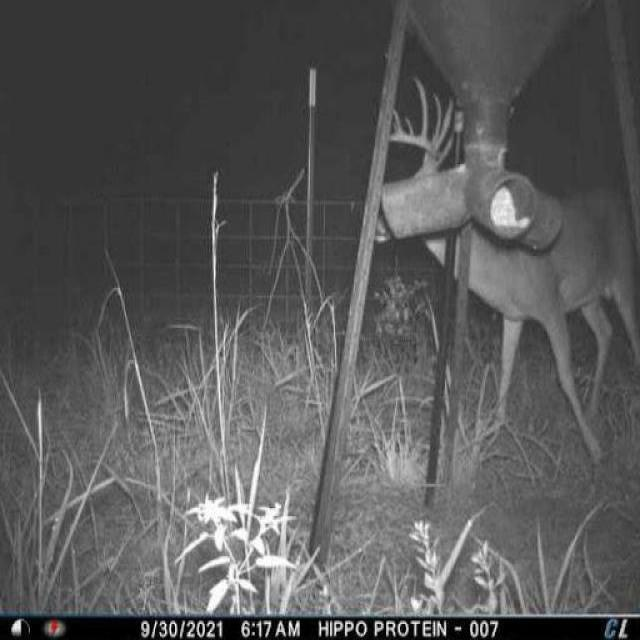deer: (369, 75, 629, 477)
